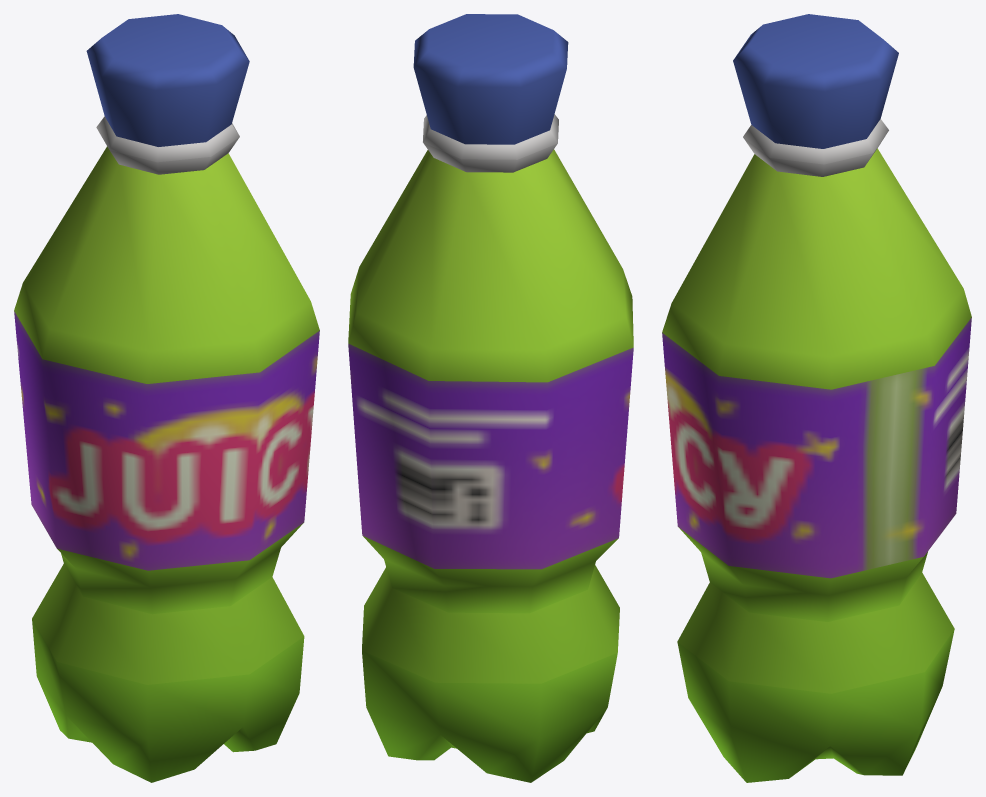
Rendered from Juicy.fbx.
3 views of the same model, side by side, from view 1: azimuth 30°, elevation 25°; view 2: azimuth 150°, elevation 25°; view 3: azimuth 270°, elevation 25° (orthographic).
Visible parts, largest first — view 1: Juicy; view 2: Juicy; view 3: Juicy.
Part boxes in pixels (bbox=[...]): Juicy: bbox=[14, 14, 319, 782]; Juicy: bbox=[348, 14, 633, 782]; Juicy: bbox=[662, 14, 971, 782].
Bounding box in the file's own units: 1.58 × 3.99 × 1.58.
